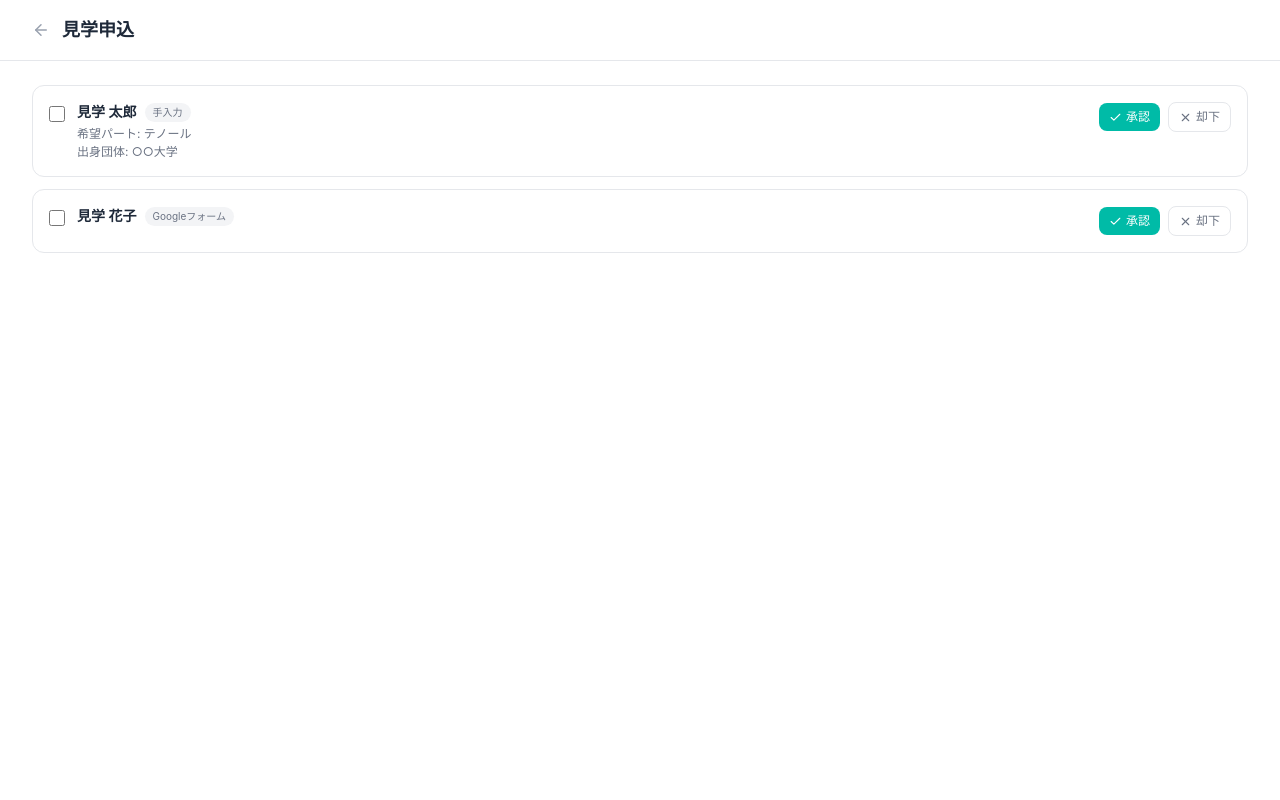
Test case: VisitorApplicationsPage › 却下に失敗した場合はエラーメッセージを表示する
The image size is (1280, 800).
Expected: the text "見学 太郎" is shown, [77,102,136,122]
Click the button "却下" in the row of "テノール": (1200, 117) [1168,102,1231,132]
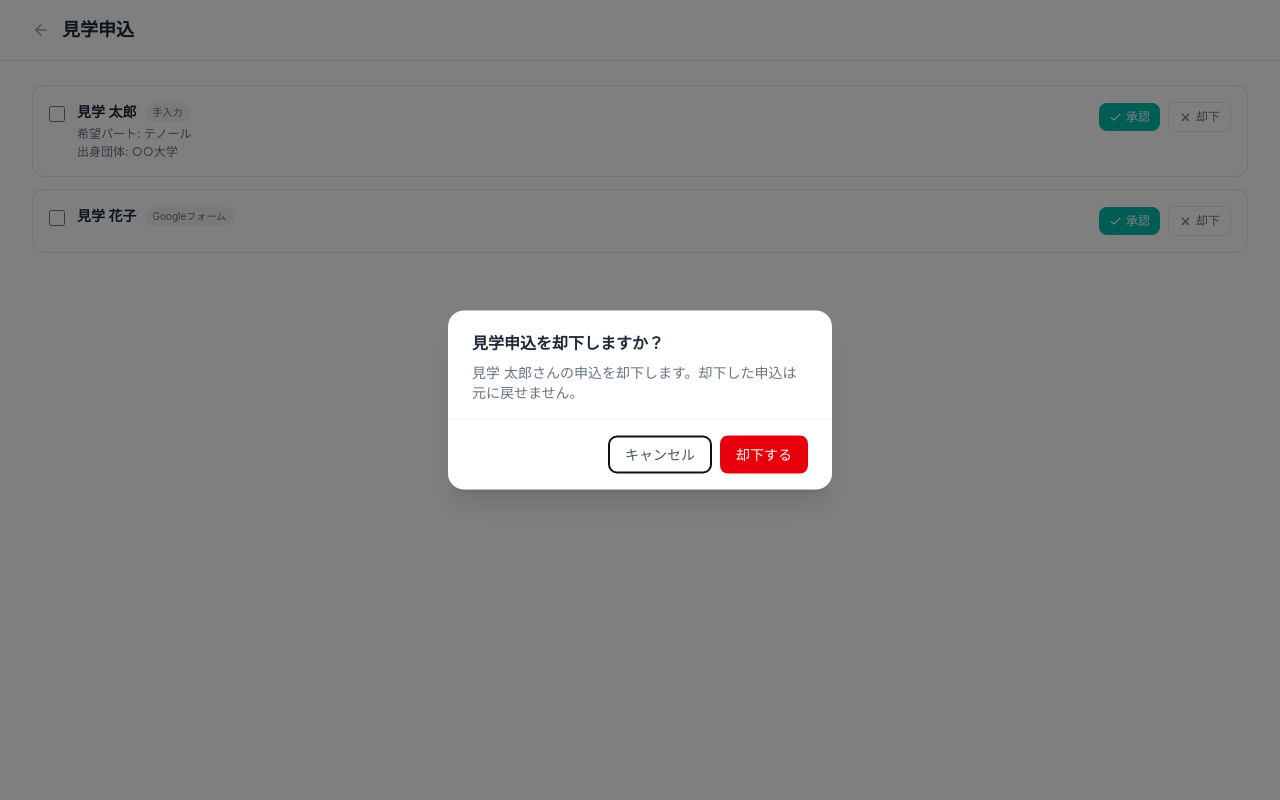
Click the button "却下する": (764, 454) [720,436,808,474]
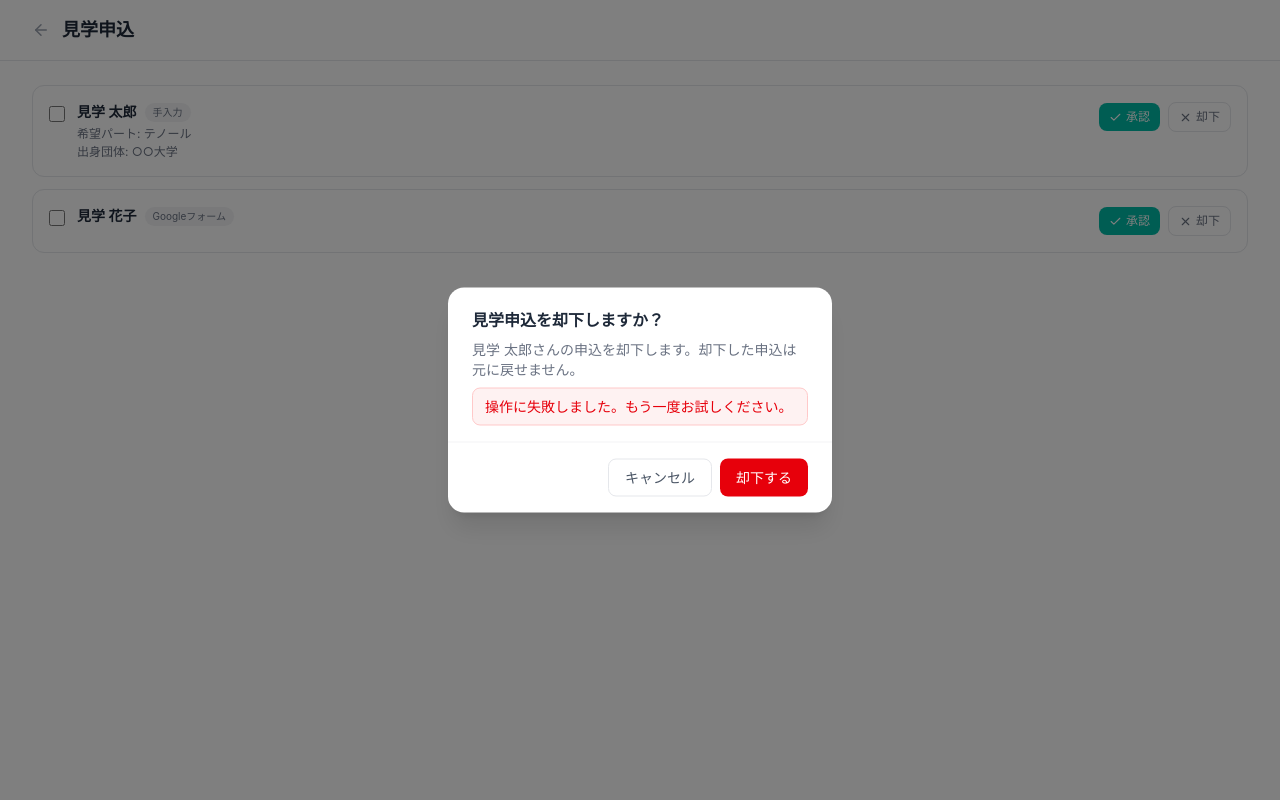
Result: the message reads "操作に失敗しました。もう一度お試しください。" at [485,398,793,414]
